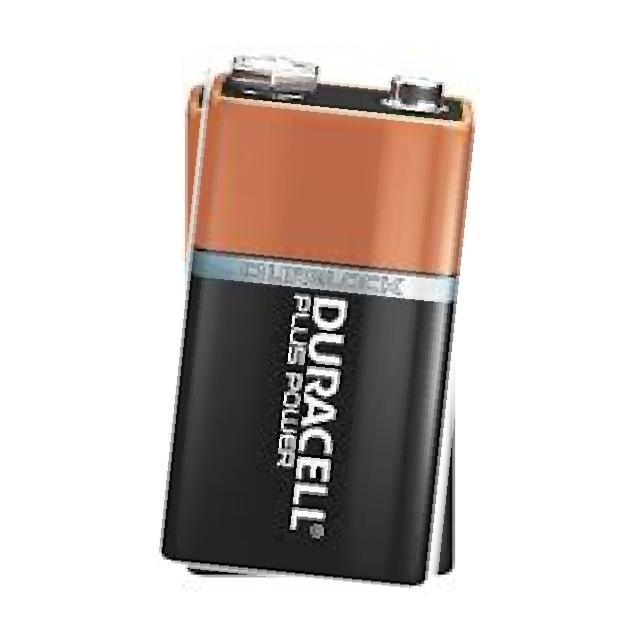Battery: (159, 54, 475, 587)
